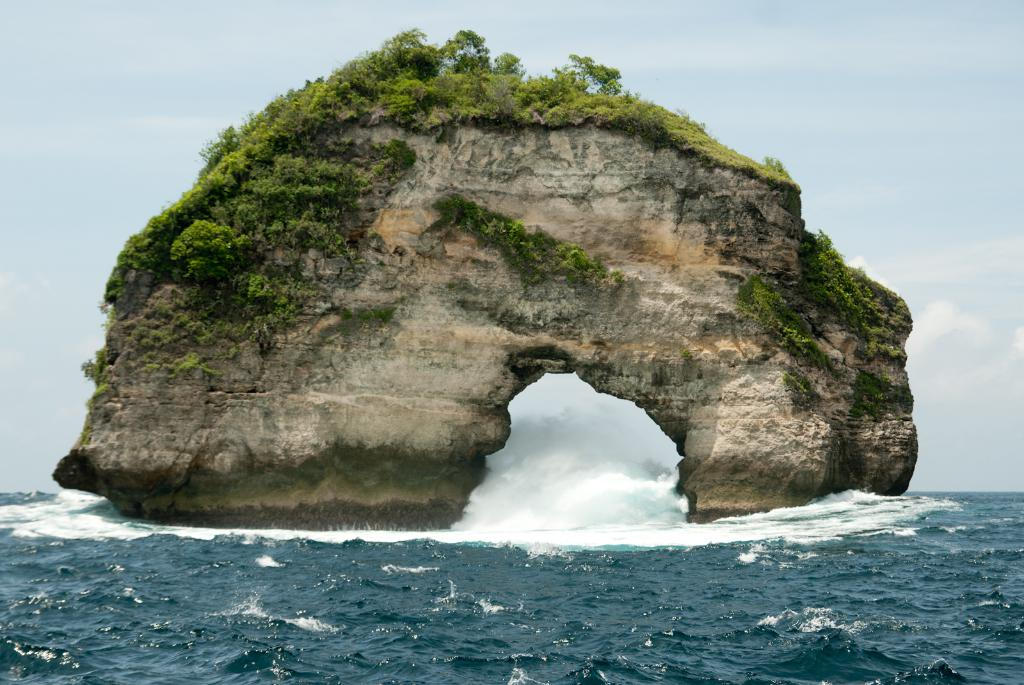Tree: (80, 26, 914, 444)
